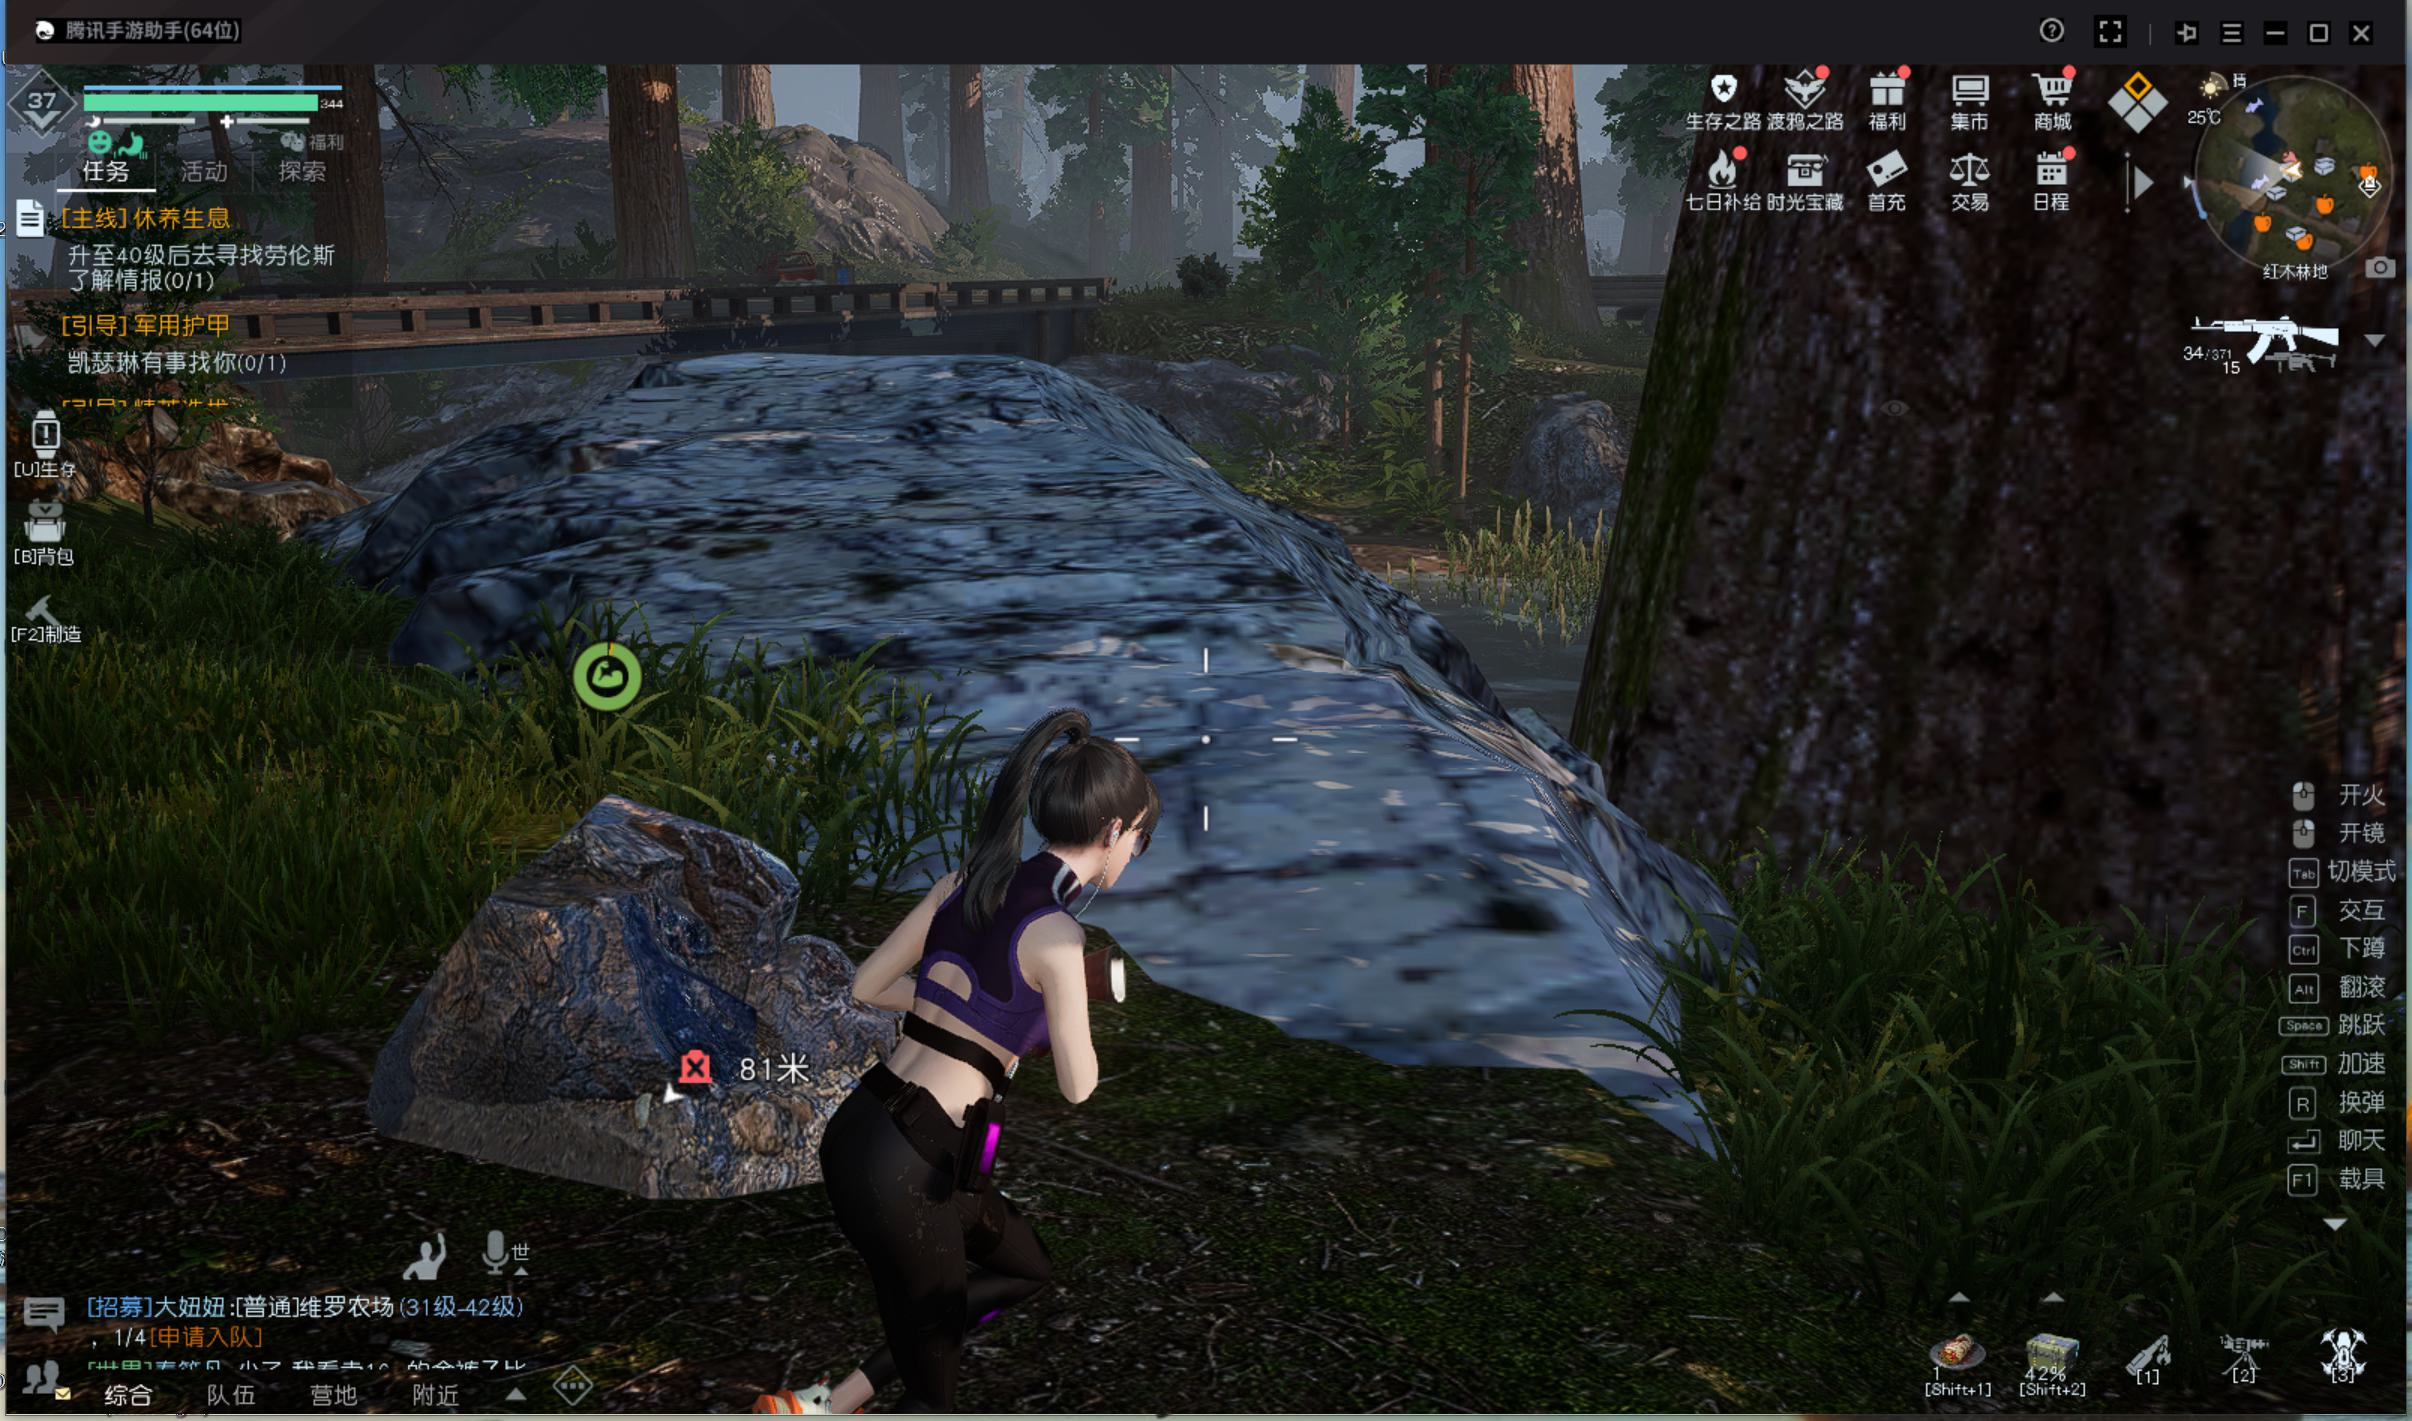stone: (397, 787, 812, 1213)
tree: (609, 80, 709, 299)
